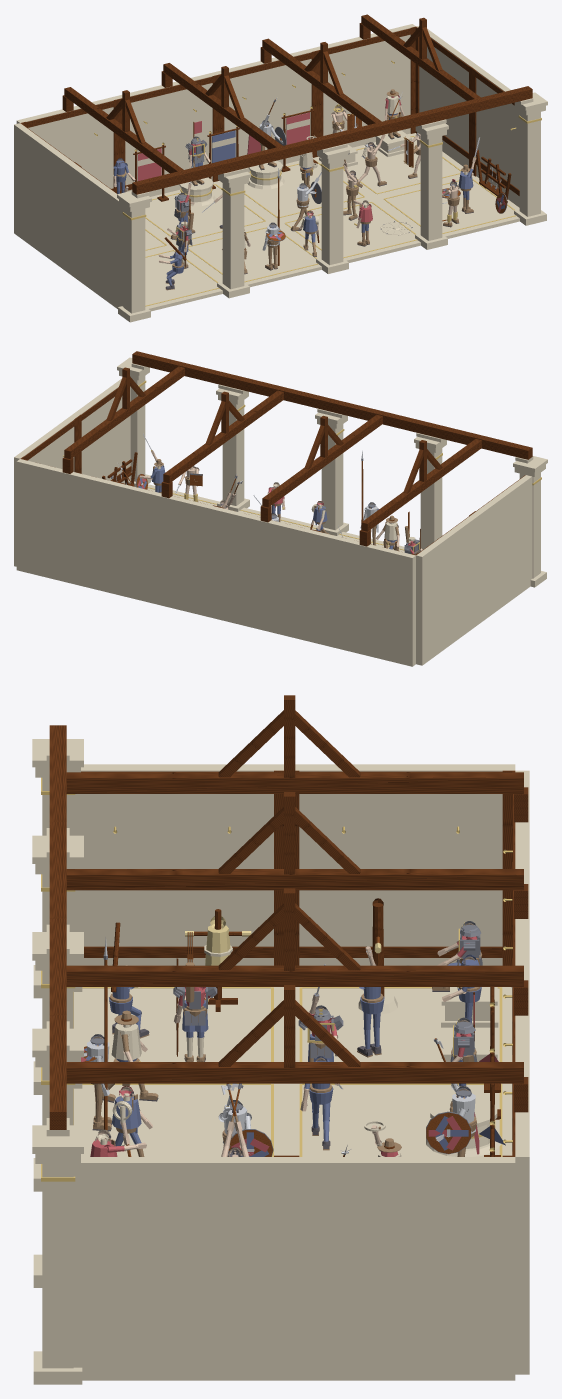
3 views of the same model, one above another, from view 1: azimuth 30°, elevation 25°; view 2: azimuth 150°, elevation 25°; view 3: azimuth 270°, elevation 25° (orthographic). The views are drawn at different scales.
Visible parts, largest first — view 1: 012-gallery-wall/0, 014-gallery-wall/0, 011-gallery-wall/0, 009-gallery-wall/0, 010-gallery-wall/0, 003-gallery-floor-tile/0, 008-gallery-wall/0, 005-gallery-floor-tile/0, 015-gallery-wall/0, 007-gallery-floor-tile/0, 016-gallery-column/0, 013-gallery-wall/0 (+30 smaller); view 2: 008-gallery-wall/0, 009-gallery-wall/0, 011-gallery-wall/0, 010-gallery-wall/0, 012-gallery-wall/0, 014-gallery-wall/0, 015-gallery-wall/0, 026-gallery-rafter/0, 028-gallery-rafter/0, 025-gallery-rafter/0, 027-gallery-rafter/0, 019-gallery-column/0 (+12 smaller); view 3: 013-gallery-wall/0, 015-gallery-wall/0, 012-gallery-wall/0, 014-gallery-wall/0, 028-gallery-rafter/0, 026-gallery-rafter/0, 025-gallery-rafter/0, 027-gallery-rafter/0, 002-gallery-floor-tile/0, 003-gallery-floor-tile/0, 001-gallery-floor-tile/0, 020-gallery-column/0 (+21 smaller).
Boxes of the visible parts, bbox=[...] form: 012-gallery-wall/0: bbox=[14, 123, 76, 274]; 014-gallery-wall/0: bbox=[71, 165, 123, 308]; 011-gallery-wall/0: bbox=[314, 24, 415, 147]; 009-gallery-wall/0: bbox=[116, 72, 217, 196]; 010-gallery-wall/0: bbox=[215, 48, 316, 172]; 003-gallery-floor-tile/0: bbox=[176, 222, 321, 287]; 008-gallery-wall/0: bbox=[16, 96, 118, 188]; 005-gallery-floor-tile/0: bbox=[275, 198, 420, 262]; 015-gallery-wall/0: bbox=[474, 67, 519, 207]; 007-gallery-floor-tile/0: bbox=[374, 175, 519, 238]; 016-gallery-column/0: bbox=[117, 191, 151, 322]; 013-gallery-wall/0: bbox=[416, 26, 478, 167]; 008-gallery-wall/0: bbox=[313, 531, 415, 666]; 009-gallery-wall/0: bbox=[214, 507, 316, 642]; 011-gallery-wall/0: bbox=[16, 459, 118, 594]; 010-gallery-wall/0: bbox=[115, 483, 217, 618]; 012-gallery-wall/0: bbox=[416, 513, 479, 665]; 014-gallery-wall/0: bbox=[474, 475, 532, 623]; 015-gallery-wall/0: bbox=[71, 378, 130, 483]; 026-gallery-rafter/0: bbox=[260, 414, 382, 522]; 028-gallery-rafter/0: bbox=[62, 366, 184, 473]; 025-gallery-rafter/0: bbox=[359, 439, 481, 546]; 027-gallery-rafter/0: bbox=[161, 390, 283, 498]; 019-gallery-column/0: bbox=[216, 388, 249, 511]; 013-gallery-wall/0: bbox=[286, 1157, 515, 1380]; 015-gallery-wall/0: bbox=[73, 1157, 286, 1380]; 012-gallery-wall/0: bbox=[295, 764, 515, 965]; 014-gallery-wall/0: bbox=[73, 764, 283, 965]; 028-gallery-rafter/0: bbox=[66, 985, 528, 1112]; 026-gallery-rafter/0: bbox=[66, 792, 528, 918]; 025-gallery-rafter/0: bbox=[66, 695, 528, 822]; 027-gallery-rafter/0: bbox=[66, 888, 528, 1015]; 002-gallery-floor-tile/0: bbox=[286, 1083, 512, 1156]; 003-gallery-floor-tile/0: bbox=[74, 1083, 286, 1156]; 001-gallery-floor-tile/0: bbox=[74, 987, 283, 1061]; 020-gallery-column/0: bbox=[32, 1125, 83, 1384].
Size of the model in its own units: 16.9 by 6.54 by 8.7.
12 materials, 2 textured.
